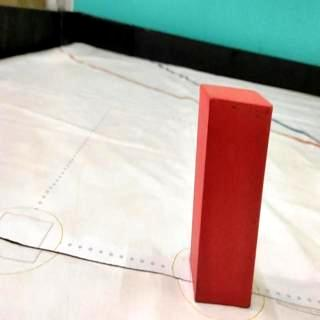redbox: (188, 82, 272, 308)
